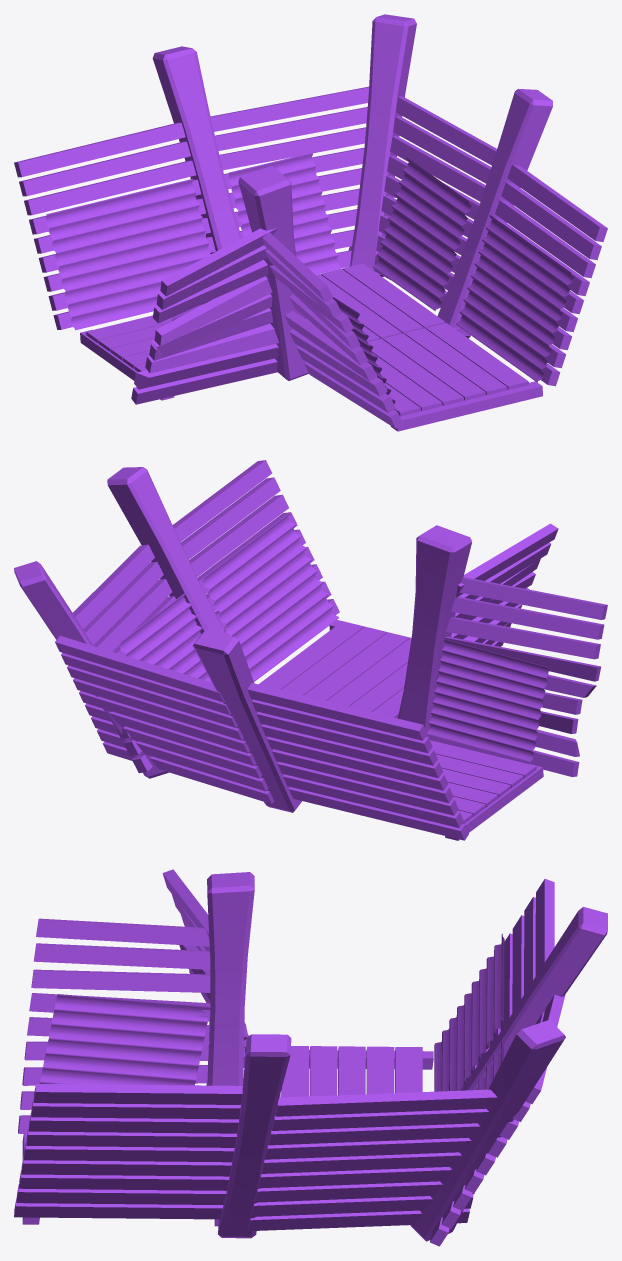
The model's file is TrenchAngleV2.fbx.
3 views of the same model, one above another, from view 1: azimuth 30°, elevation 25°; view 2: azimuth 150°, elevation 25°; view 3: azimuth 270°, elevation 25° (orthographic). The views are drawn at different scales.
Visible parts, largest first — view 1: TrenchAngleV2; view 2: TrenchAngleV2; view 3: TrenchAngleV2.
Part boxes in pixels (x1,y1,x2,y2): TrenchAngleV2: (14,14,607,431); TrenchAngleV2: (14,460,607,840); TrenchAngleV2: (14,869,607,1246).
Bounding box in the file's own units: 458 × 220 × 472.
